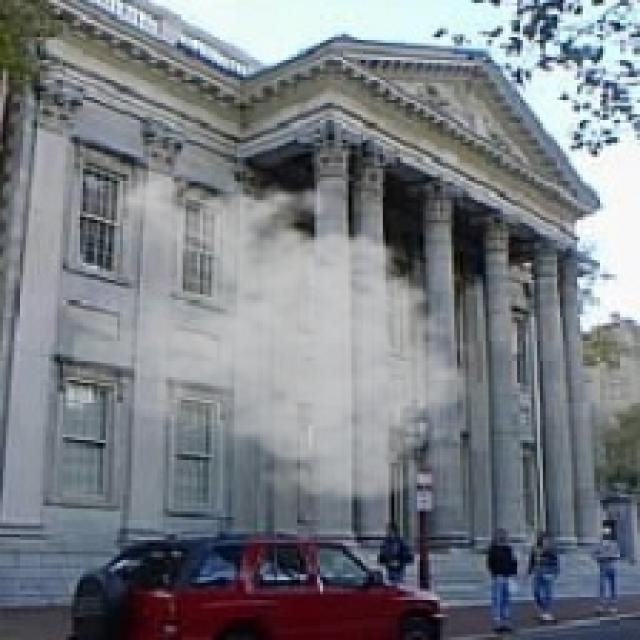smoke: (68, 163, 486, 508)
